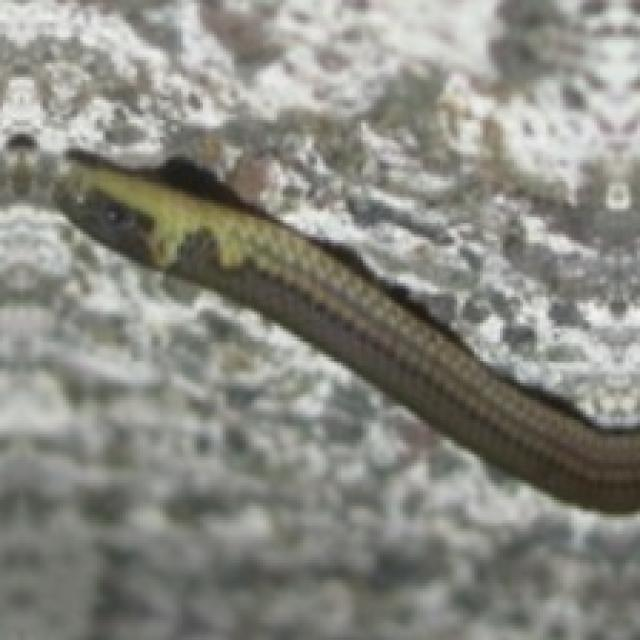gervais worm snake: (54, 149, 637, 511)
